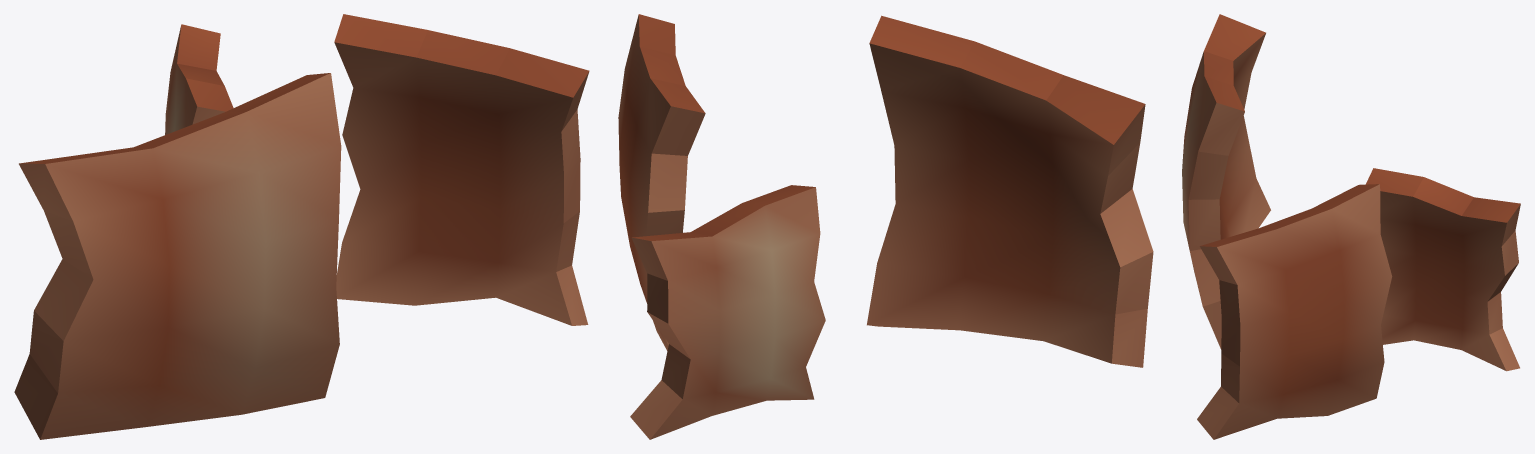
Rendered from potsherds.glb.
3 renders of one model, left to right at view 1: azimuth 30°, elevation 25°; view 2: azimuth 150°, elevation 25°; view 3: azimuth 270°, elevation 25°, orthographic. The views are drawn at different scales.
Parts seen in each view (by area): view 1: potsherds; view 2: potsherds; view 3: potsherds.
Part boxes in pixels (<box>): potsherds: <box>14,14,589,439</box>; potsherds: <box>618,14,1153,439</box>; potsherds: <box>1182,14,1520,439</box>.
Size of the model in its own units: 0.1085 by 0.0618 by 0.0751.
